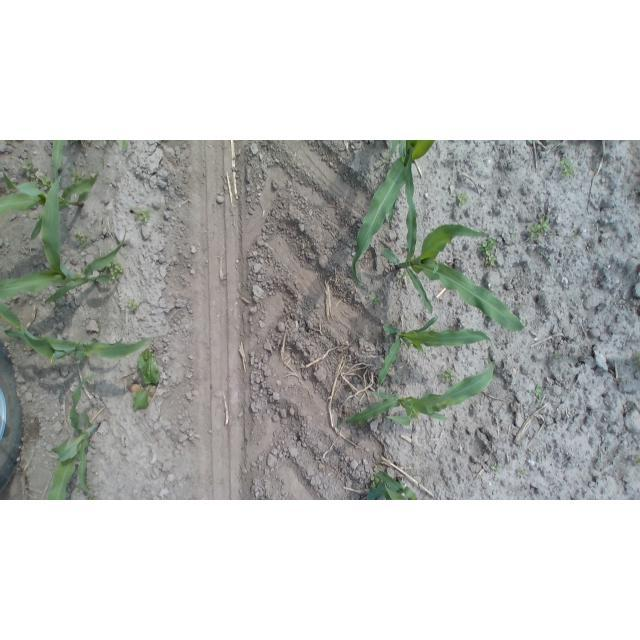Maize: (381, 150, 526, 334), (0, 157, 128, 302), (351, 140, 439, 286), (1, 140, 104, 244), (340, 362, 496, 429), (371, 315, 494, 398), (1, 300, 154, 363), (40, 372, 105, 500), (364, 471, 422, 500)
Weeds: (132, 347, 161, 410), (20, 159, 52, 190), (526, 217, 552, 241), (480, 238, 499, 267), (107, 259, 125, 282), (101, 141, 135, 152), (529, 384, 545, 405), (440, 368, 457, 387), (560, 156, 574, 179), (135, 208, 153, 225), (74, 231, 88, 250), (70, 170, 86, 185), (126, 298, 140, 315), (455, 191, 469, 207), (367, 292, 381, 306), (368, 472, 384, 484), (398, 272, 413, 283), (514, 467, 528, 477), (633, 350, 640, 370), (508, 229, 517, 243), (632, 454, 640, 467), (491, 463, 501, 473)
